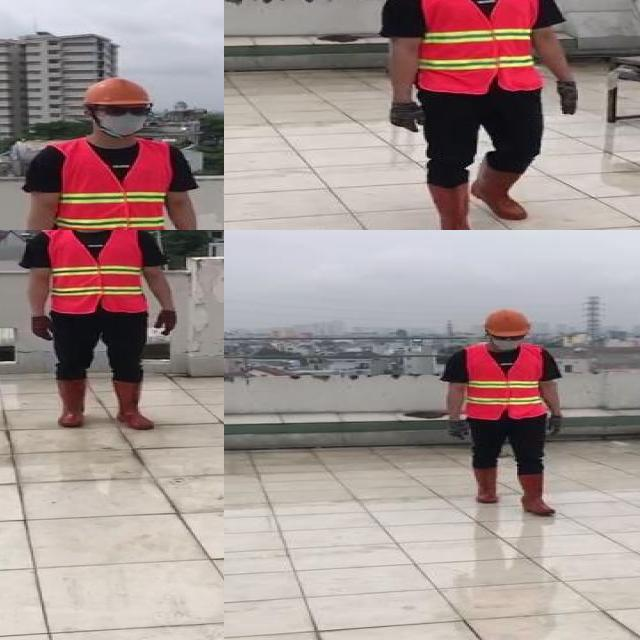boots: (473, 152, 530, 220), (423, 182, 483, 230), (110, 381, 152, 431), (52, 376, 90, 428), (517, 471, 554, 515), (469, 466, 499, 504)
face_mask: (95, 104, 150, 136), (489, 332, 525, 350)
glasses: (101, 103, 155, 119), (488, 332, 526, 342)
hand_glove: (386, 102, 429, 132), (555, 81, 581, 115), (446, 421, 472, 441), (546, 411, 562, 438)
head_helmet: (15, 230, 190, 431), (80, 76, 151, 109), (482, 308, 532, 338)
person: (372, 0, 580, 230), (12, 74, 213, 230), (442, 308, 568, 519)
vest: (409, 0, 542, 92), (52, 140, 167, 230), (45, 230, 147, 315), (462, 344, 545, 420)
